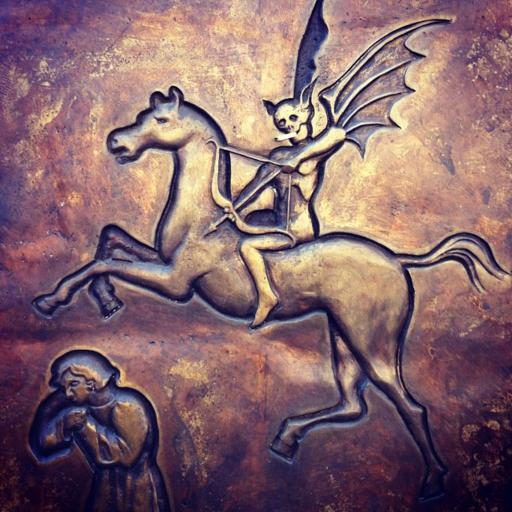horse: (32, 88, 512, 490)
